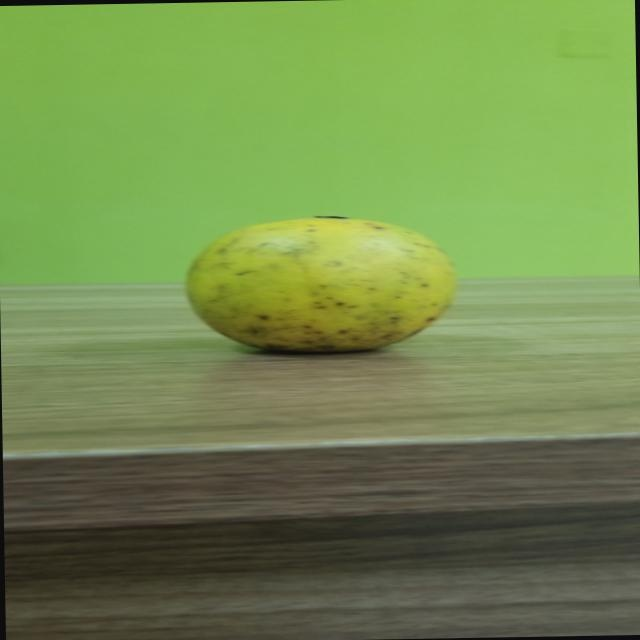agrume: (164, 201, 468, 367)
